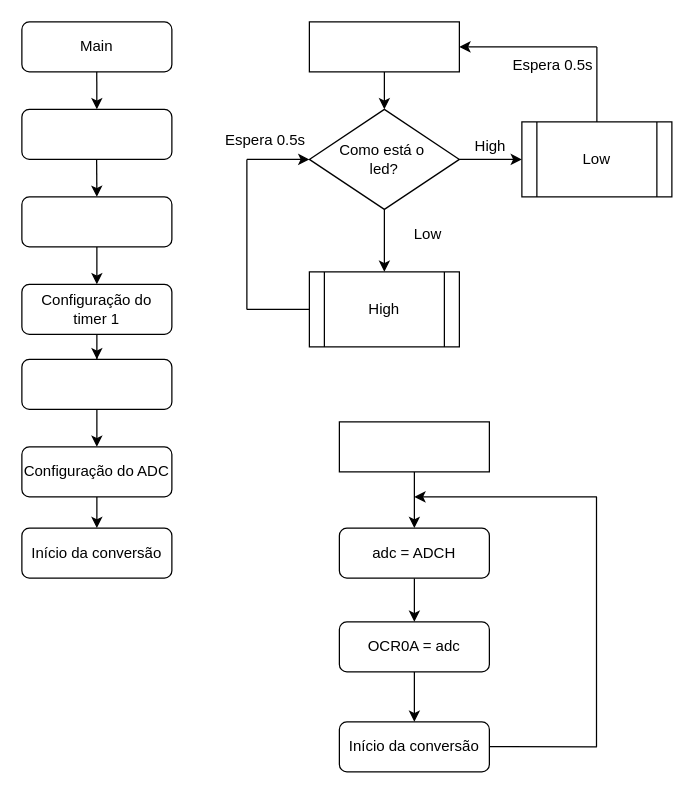
This 694x794 diagram has some shape labels left out. The centre of each missing label's shape, as x and y in pixels:
Configuração das portas: the point at 96,221
Configuração do timer 0 para sinal PWM: the point at 96,383
Init: the point at 96,133
ISR(ADC _vect): the point at 413,446
ISR(TIMER1_ COMPA_vect): the point at 383,46
